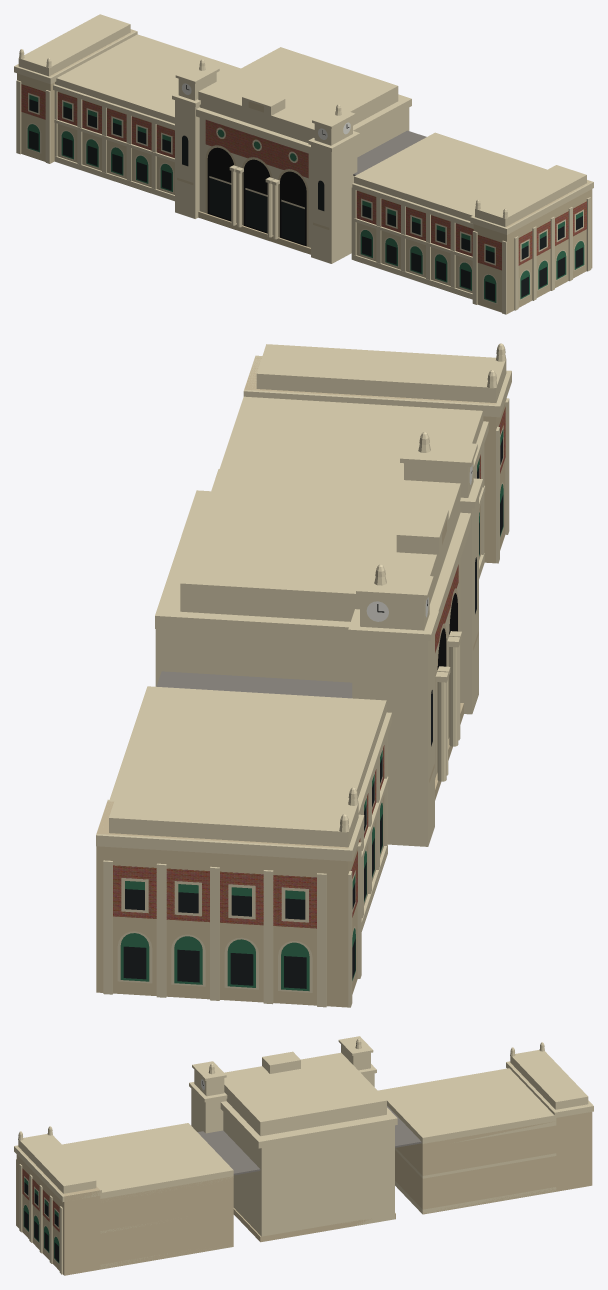
File: misr-station.glb
3 views of the same model, one above another, from view 1: azimuth 30°, elevation 25°; view 2: azimuth 150°, elevation 25°; view 3: azimuth 270°, elevation 25° (orthographic). The views are drawn at different scales.
Visible parts, largest first — view 1: MisrStation; view 2: MisrStation; view 3: MisrStation.
Boxes of the visible parts, left/top/right/bottom form: MisrStation: left=14, top=14, right=593, bottom=314; MisrStation: left=96, top=343, right=511, bottom=1007; MisrStation: left=14, top=1036, right=593, bottom=1275.
Size of the model in its own units: 55.84 by 24.8 by 96.73.
Materials: 2 (2 with a texture image).
